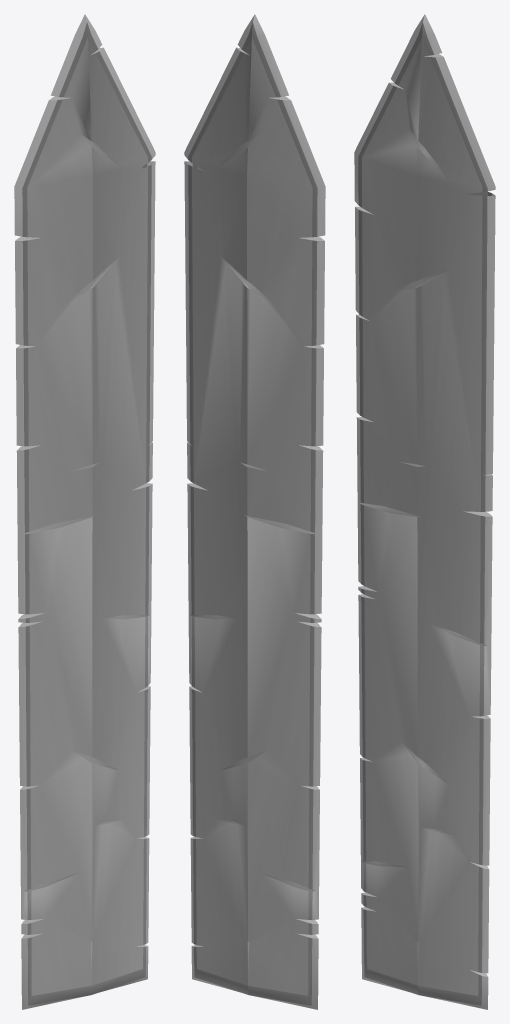
Rendered from stone_blade_scratched_048.glb.
The picture shows the model from 3 angles, left to right: view 1: azimuth 30°, elevation 25°; view 2: azimuth 150°, elevation 25°; view 3: azimuth 330°, elevation 25°; orthographic projection.
Parts seen in each view (by area): view 1: stone_blade_scratched.048; view 2: stone_blade_scratched.048; view 3: stone_blade_scratched.048.
Part boxes in pixels (box(x1,y1,x2,y2)): stone_blade_scratched.048: box(14, 14, 155, 1009); stone_blade_scratched.048: box(184, 14, 325, 1009); stone_blade_scratched.048: box(354, 14, 495, 1009).
Bounding box in the file's own units: 1.71 × 11.4 × 0.3369.
Materials: 1 (1 with a texture image).
